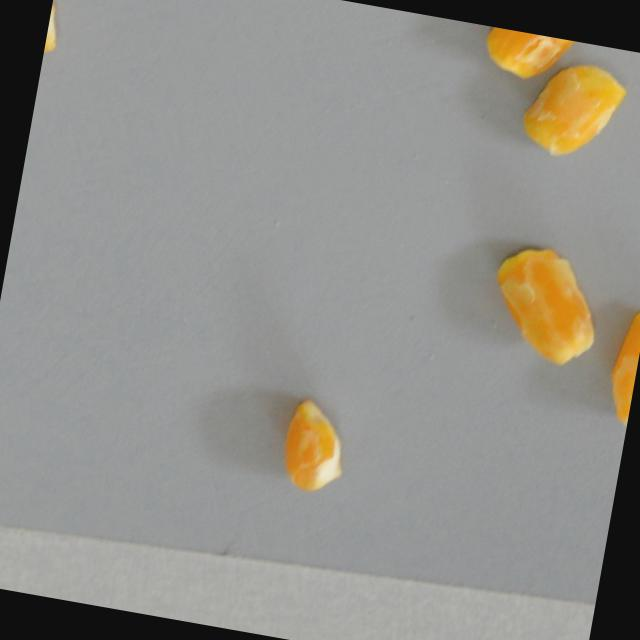dañado: (477, 231, 611, 381), (514, 48, 633, 170), (271, 391, 356, 501), (475, 24, 576, 93), (595, 295, 640, 437), (39, 0, 65, 74)
